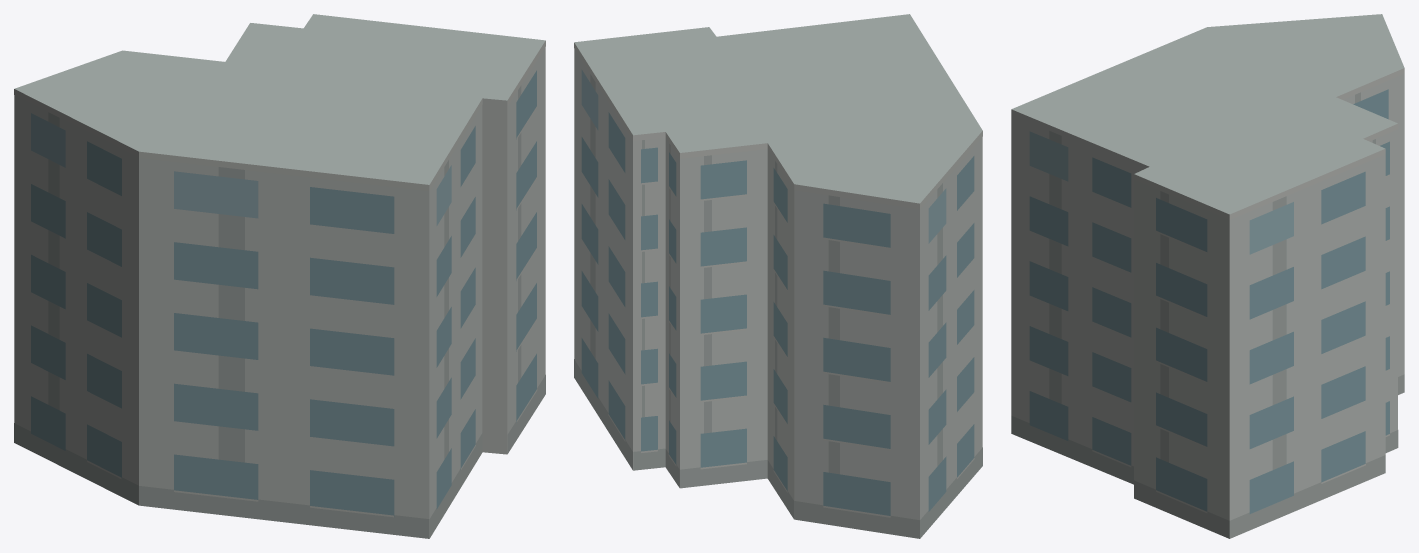
Rendered from survey-upis-32601824.glb.
The picture shows the model from 3 angles, left to right: view 1: azimuth 30°, elevation 25°; view 2: azimuth 150°, elevation 25°; view 3: azimuth 270°, elevation 25°; orthographic projection. The views are drawn at different scales.
Visible parts, largest first — view 1: survey-upis-32601824.tmp; view 2: survey-upis-32601824.tmp; view 3: survey-upis-32601824.tmp.
Boxes of the visible parts, x1,y1,x2,y2 form: survey-upis-32601824.tmp: (14,14,545,538); survey-upis-32601824.tmp: (574,14,982,538); survey-upis-32601824.tmp: (1011,14,1404,538).
Size of the model in its own units: 18.57 by 14 by 15.39.
